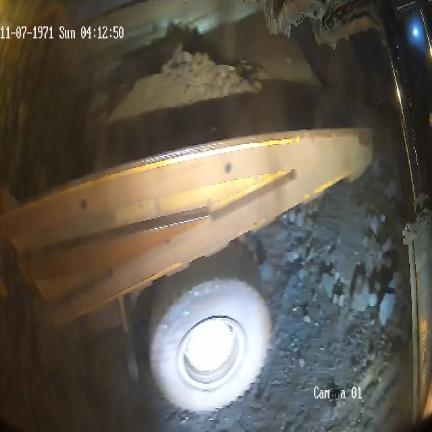pile: (242, 148, 411, 374), (100, 45, 260, 124)
